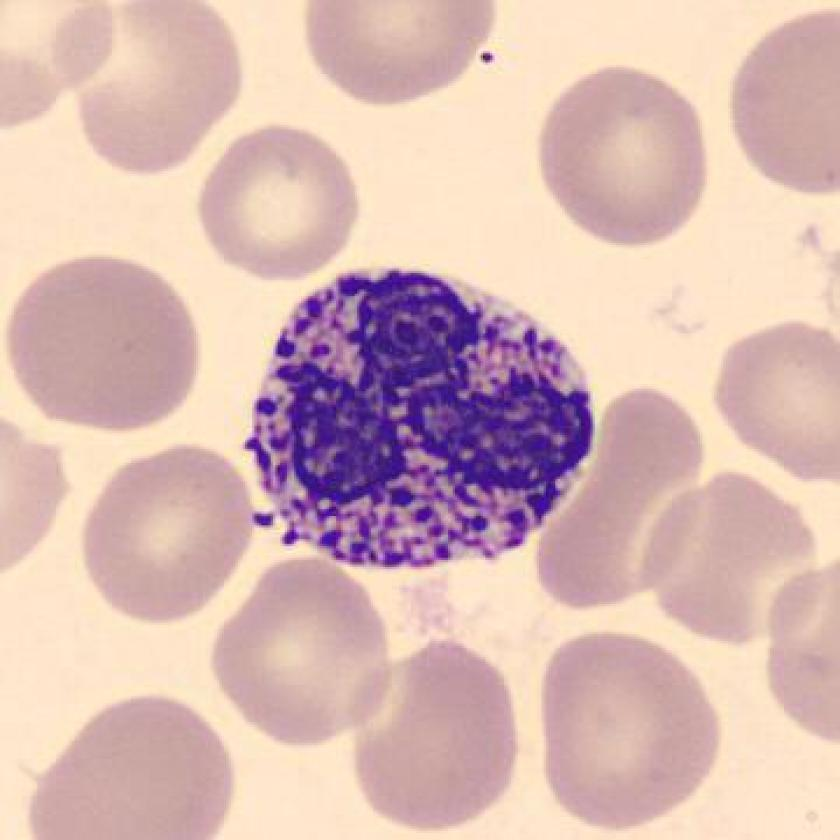basophil: (237, 263, 596, 577)
